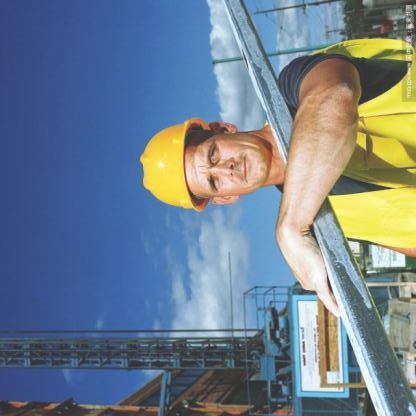vest: (305, 32, 415, 252)
yellow: (134, 108, 209, 218)
